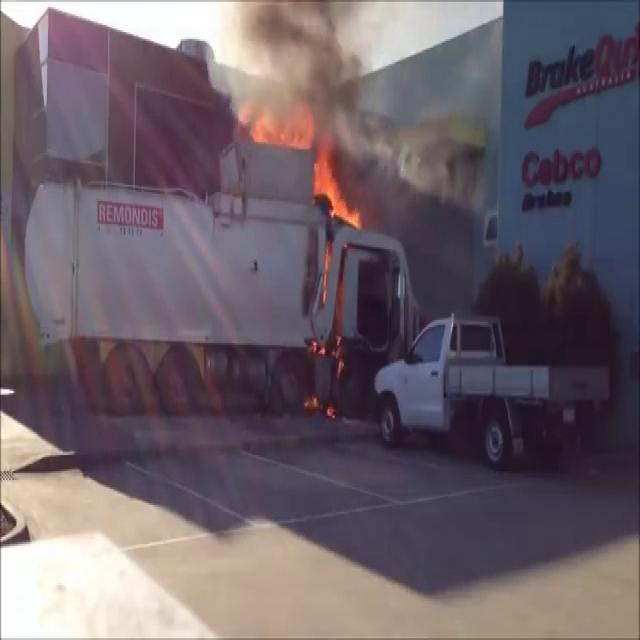Fire: (310, 144, 362, 228), (245, 106, 314, 152)
Smoke: (242, 0, 386, 150)
